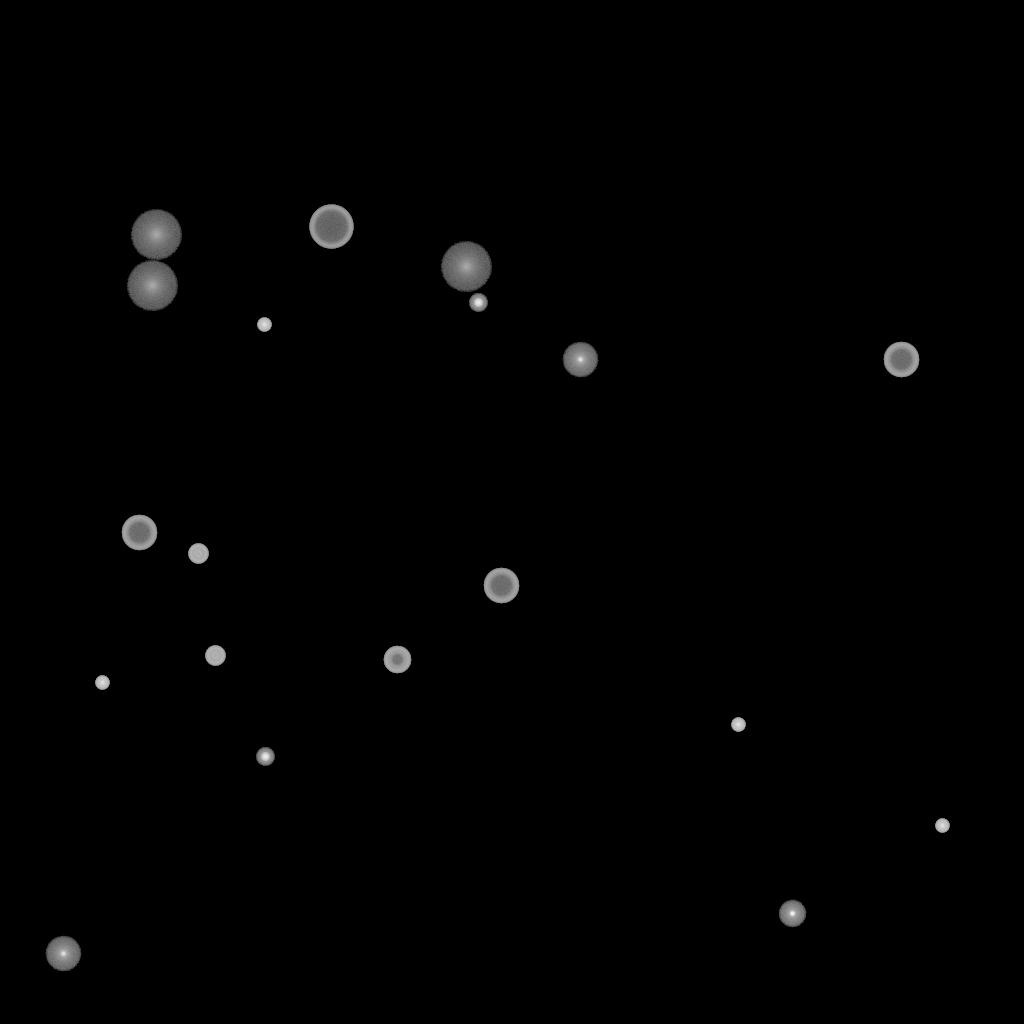depth:-10: (778, 900, 806, 928)
depth:-20: (256, 748, 274, 766), (469, 294, 487, 312)
depth:-30: (257, 318, 271, 332), (935, 819, 949, 833), (95, 676, 109, 690), (731, 718, 745, 732)
depth:-40: (188, 544, 208, 564), (205, 646, 225, 666)
depth:-50: (383, 646, 411, 674)
depth:-60: (883, 342, 919, 378), (483, 568, 519, 604), (121, 515, 157, 551)
depth:-70: (309, 205, 353, 249)
depth:0: (562, 342, 598, 378), (45, 936, 81, 972)
depth:20: (126, 261, 178, 311), (440, 242, 492, 292), (130, 210, 182, 260)
